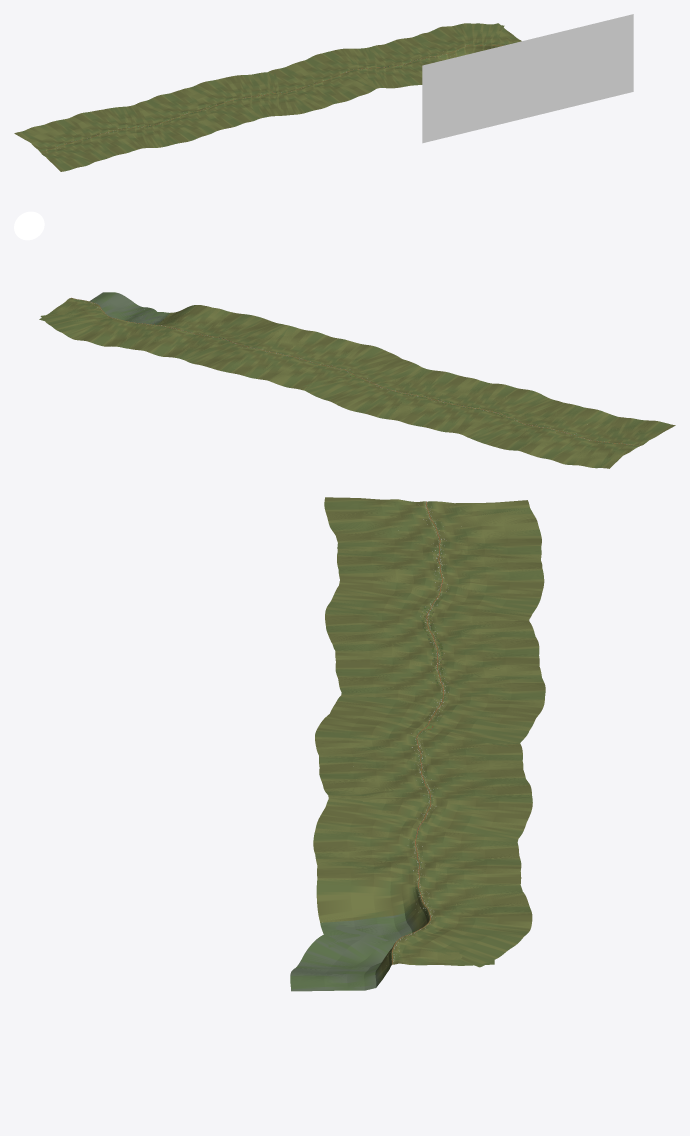
File: iten.glb
The picture shows the model from 3 angles, top to bottom: view 1: azimuth 30°, elevation 25°; view 2: azimuth 150°, elevation 25°; view 3: azimuth 270°, elevation 25°; orthographic projection. The views are drawn at different scales.
Visible parts, largest first — view 1: KerioRim, Land_011, Land_005, Land_010, Land_009, Land_002, Land_004, Land_006, Land_001, Land_008, Land_007, Land_012 (+8 smaller); view 2: Land_011, Land_010, Land_009, Land_008, Land_002, Land_005, Land_006, Land_004, Land_014, Land_007, Land_001, Land_012 (+8 smaller); view 3: Land_015, Land_013, Land_000, Land_016, Land_003, Land_012, Land_014, Land_005, Land_001, Land_017, Land_007, Land_008 (+7 smaller).
Part boxes in pixels (bbox=[...]): KerioRim: bbox=[422, 14, 633, 143]; Land_011: bbox=[296, 58, 375, 101]; Land_005: bbox=[137, 94, 216, 139]; Land_010: bbox=[268, 63, 343, 107]; Land_009: bbox=[251, 72, 323, 115]; Land_002: bbox=[63, 113, 140, 156]; Land_004: bbox=[126, 104, 195, 147]; Land_006: bbox=[165, 89, 245, 130]; Land_001: bbox=[31, 119, 112, 161]; Land_008: bbox=[216, 74, 283, 118]; Land_007: bbox=[184, 80, 261, 122]; Land_012: bbox=[310, 48, 385, 89]; Land_011: bbox=[249, 326, 333, 380]; Land_010: bbox=[268, 337, 359, 390]; Land_009: bbox=[305, 344, 401, 397]; Land_008: bbox=[319, 359, 422, 411]; Land_002: bbox=[518, 403, 604, 457]; Land_005: bbox=[419, 380, 510, 433]; Land_006: bbox=[395, 371, 480, 426]; Land_004: bbox=[458, 386, 556, 438]; Land_014: bbox=[144, 307, 239, 358]; Land_007: bbox=[354, 367, 441, 420]; Land_001: bbox=[542, 412, 627, 465]; Land_012: bbox=[198, 323, 289, 377]; Land_015: bbox=[316, 866, 522, 922]; Land_013: bbox=[313, 806, 525, 845]; Land_000: bbox=[324, 497, 536, 535]; Land_016: bbox=[320, 890, 532, 943]; Land_003: bbox=[335, 569, 544, 613]; Land_012: bbox=[326, 782, 532, 824]; Land_014: bbox=[313, 841, 521, 870]; Land_005: bbox=[326, 622, 539, 651]; Land_001: bbox=[336, 520, 541, 553]; Land_017: bbox=[306, 920, 530, 965]; Land_007: bbox=[338, 668, 545, 700]; Land_008: bbox=[330, 694, 544, 730].
Bounding box in the file's own units: 21649 × 2780 × 6498.
